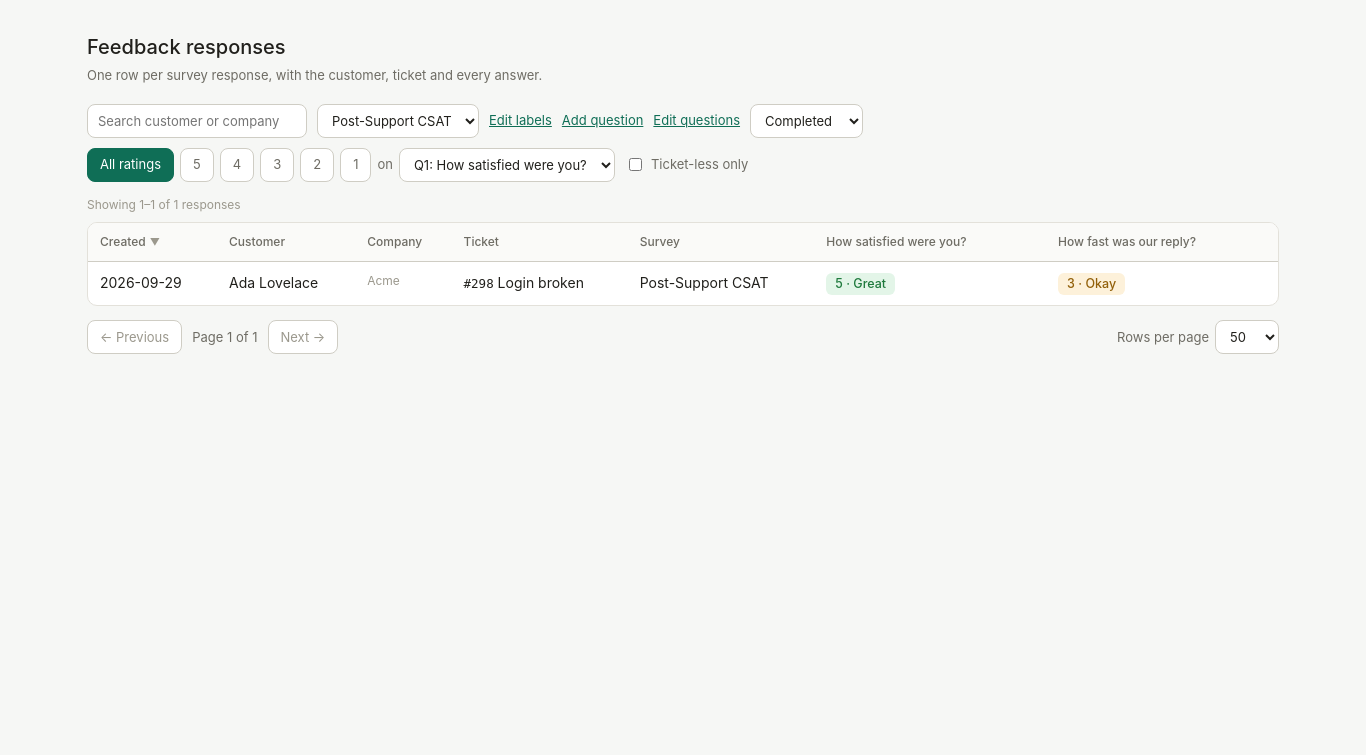
Test: FeedbackTablePage › multi-select questions (Req 2) › creates a multi-select question with the options entered
Click the button "Add question". click: (603, 121)
box: [562,111,643,130]
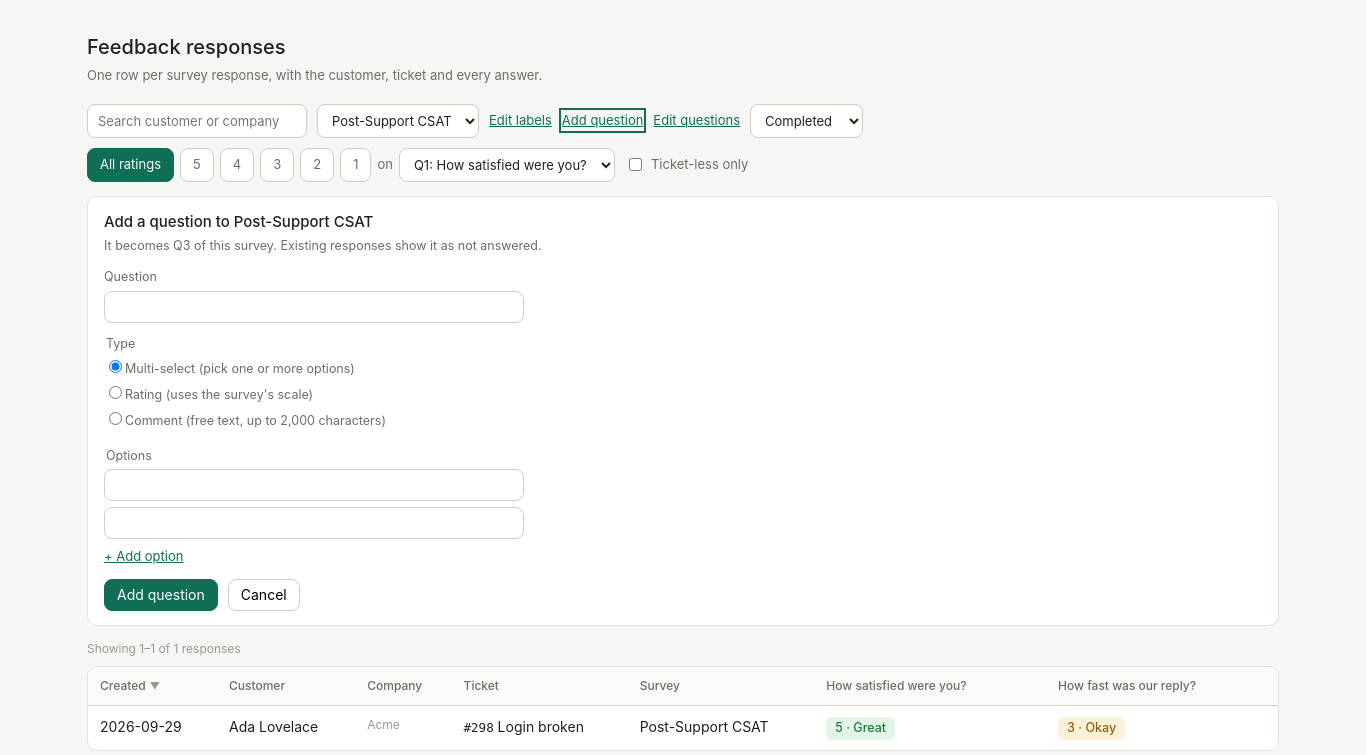
Type "What made the biggest difference?" into the field labelled "Question". click: (314, 306)
box: [104,290,524,322]
Type "Docs" into the field named "Option 1". click: (314, 485)
box: [104,469,524,501]
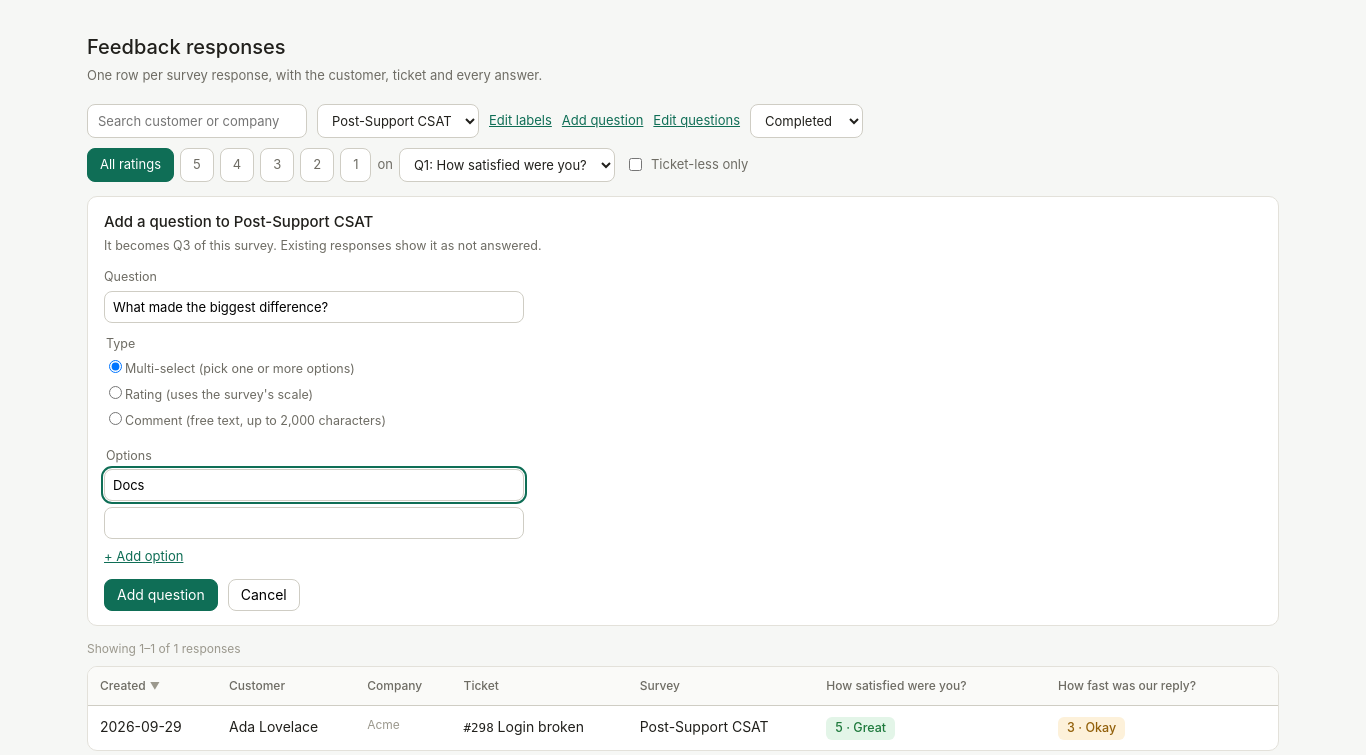
Type "Pricing" into the field named "Option 2". click: (314, 523)
box: [104,507,524,539]
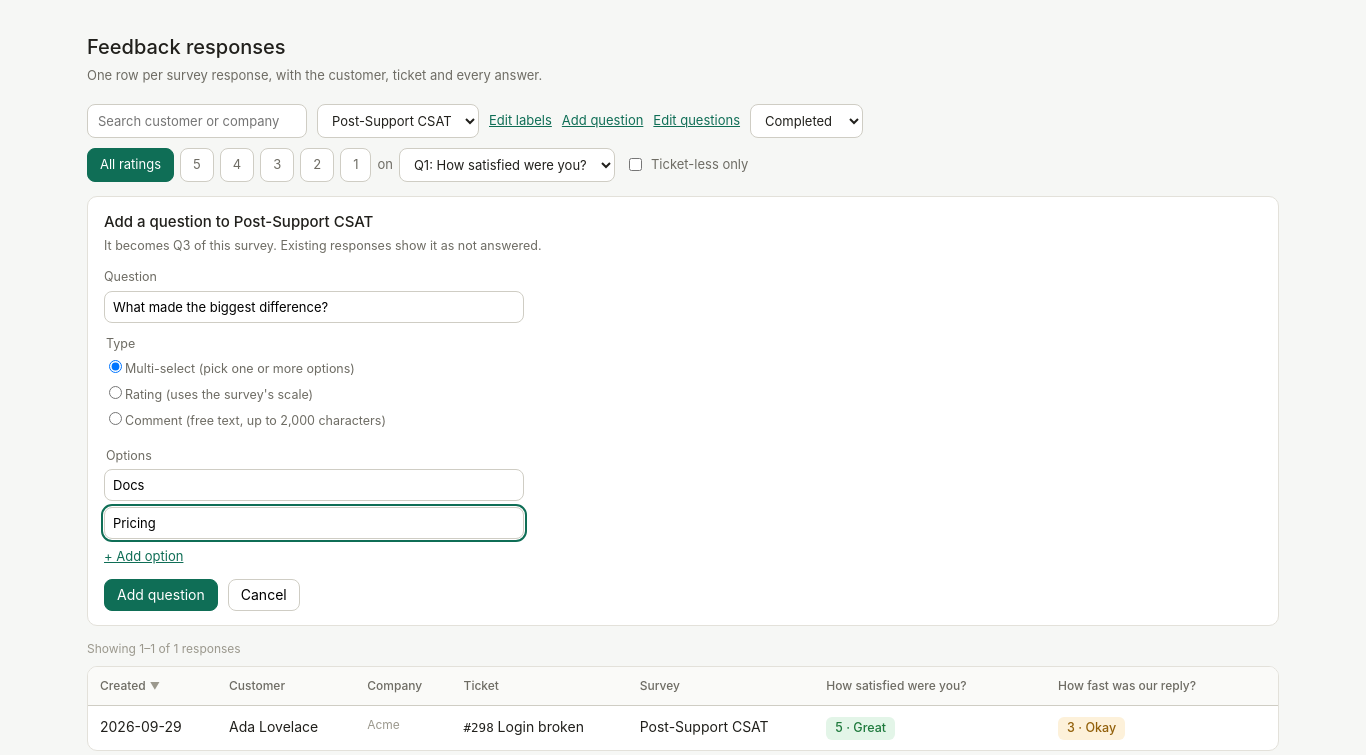
Click the button "+ Add option". click: (144, 557)
box: [104,547,183,567]
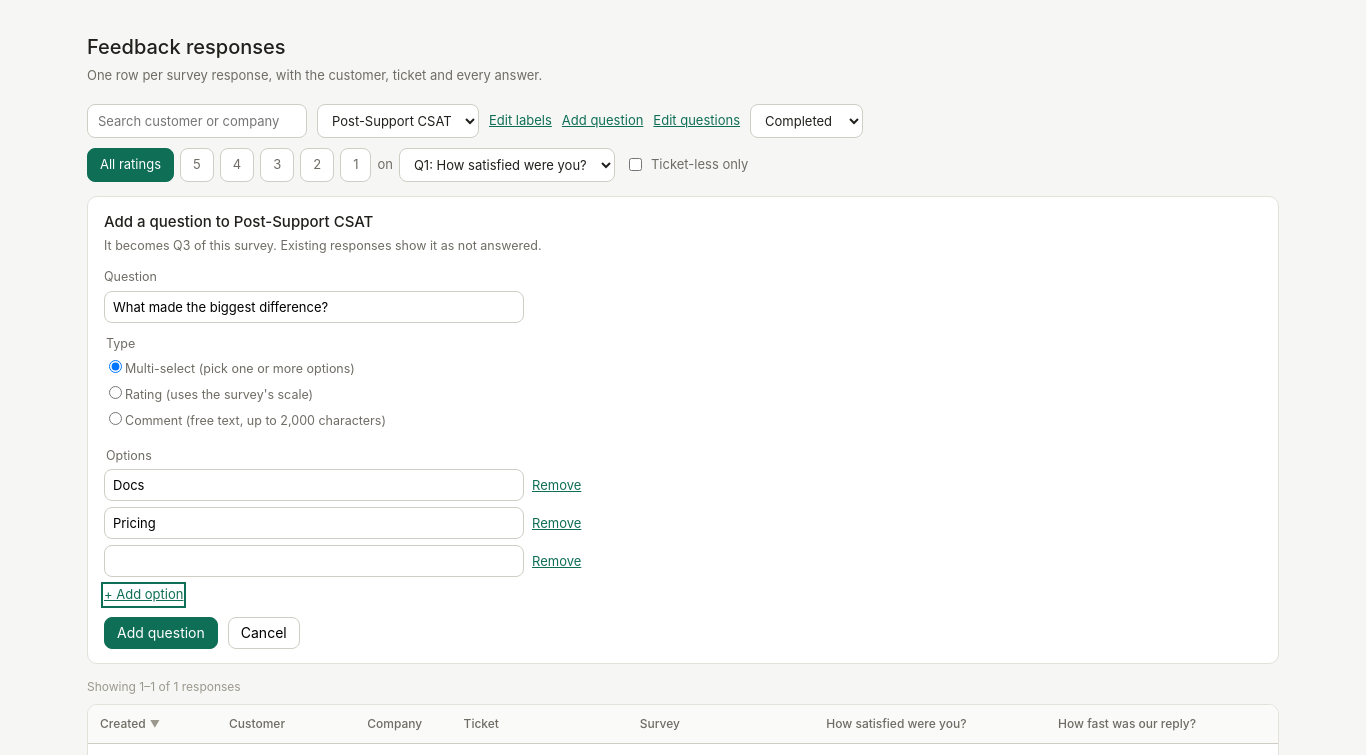
Type "Kickoff call" into the field named "Option 3". click: (314, 561)
box: [104,545,524,577]
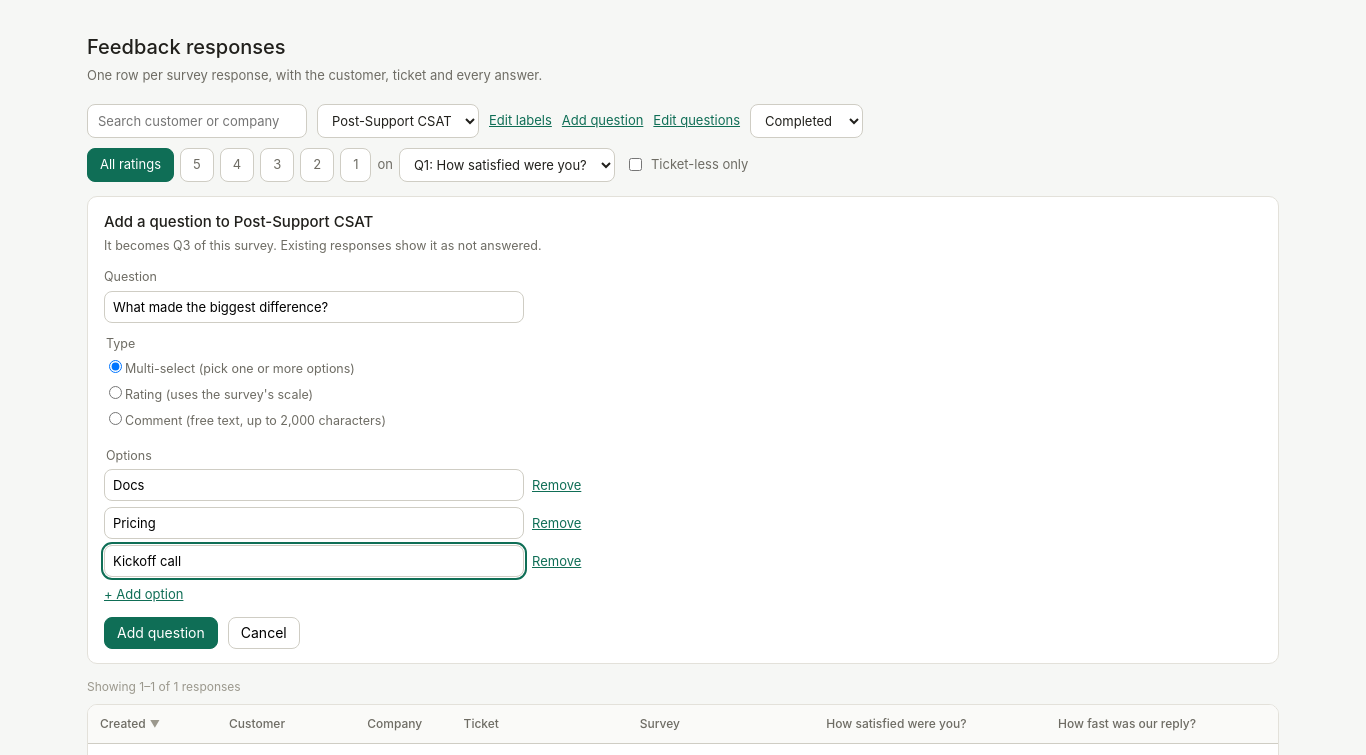
Click the button "Add question" below "Rating (uses the survey's scale)". click: (161, 633)
box: [104,617,218,649]
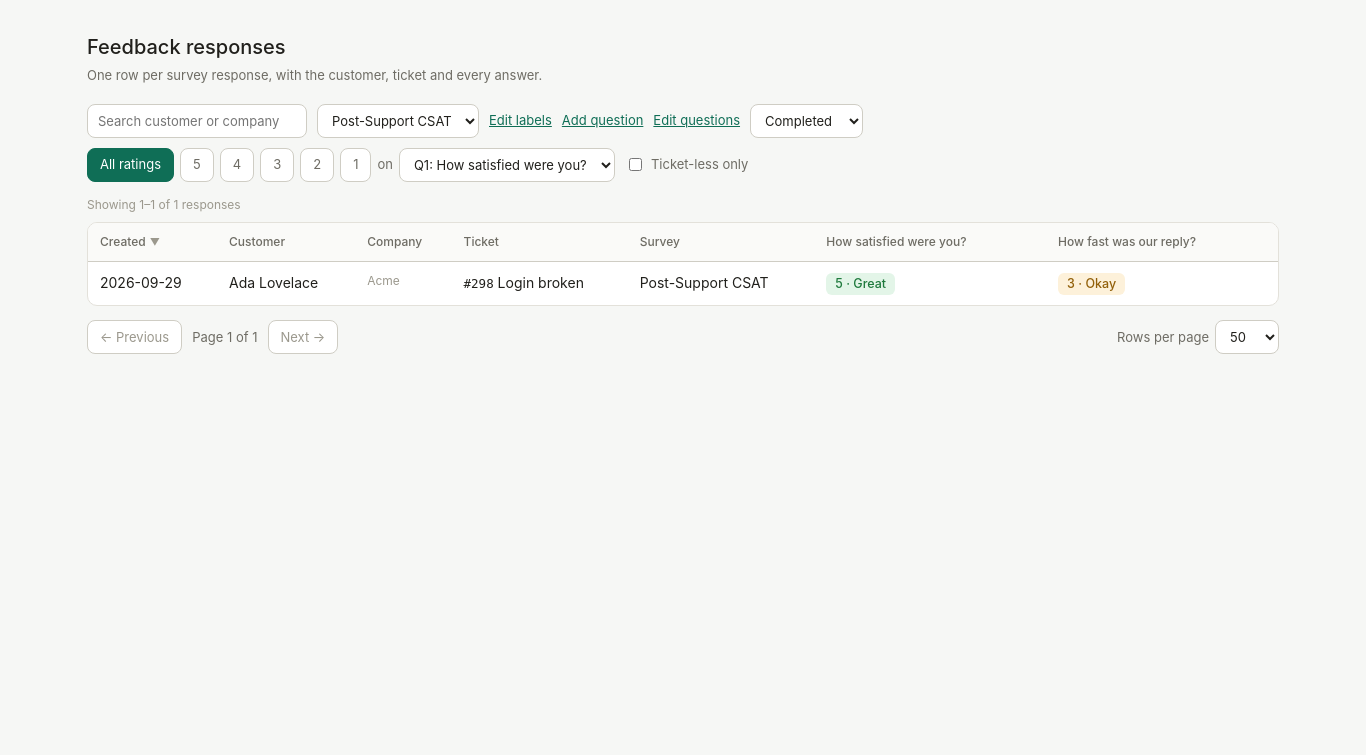
Result: the form is gone
